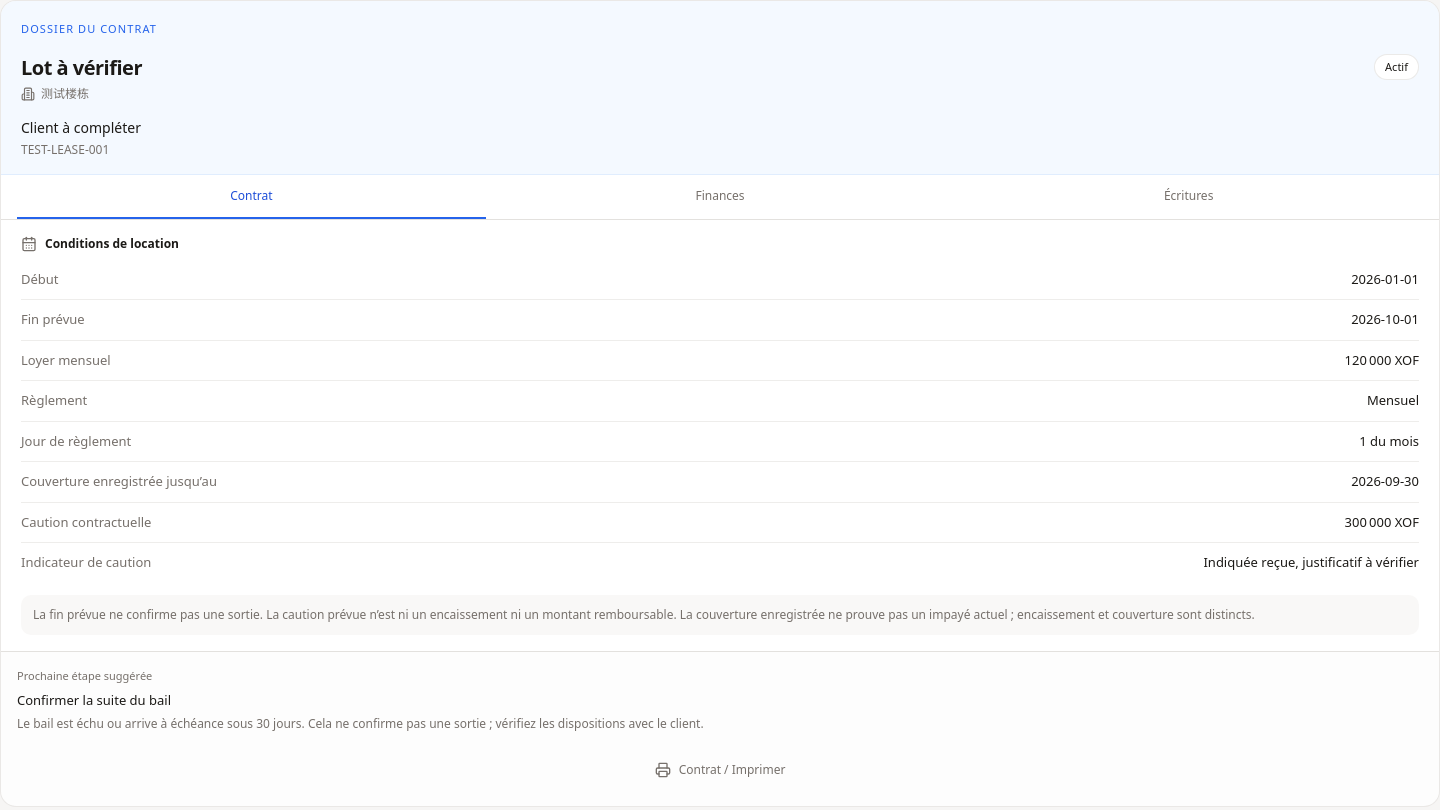
Test: LeaseWorkbenchInspector single contract dossier › localizes the French preview, missing data, and accessible labels
What coordinates should you click on to do the following:
click the tab "Finances"
I would click on:
 (720, 196)
Its box is [486,174,954,218].
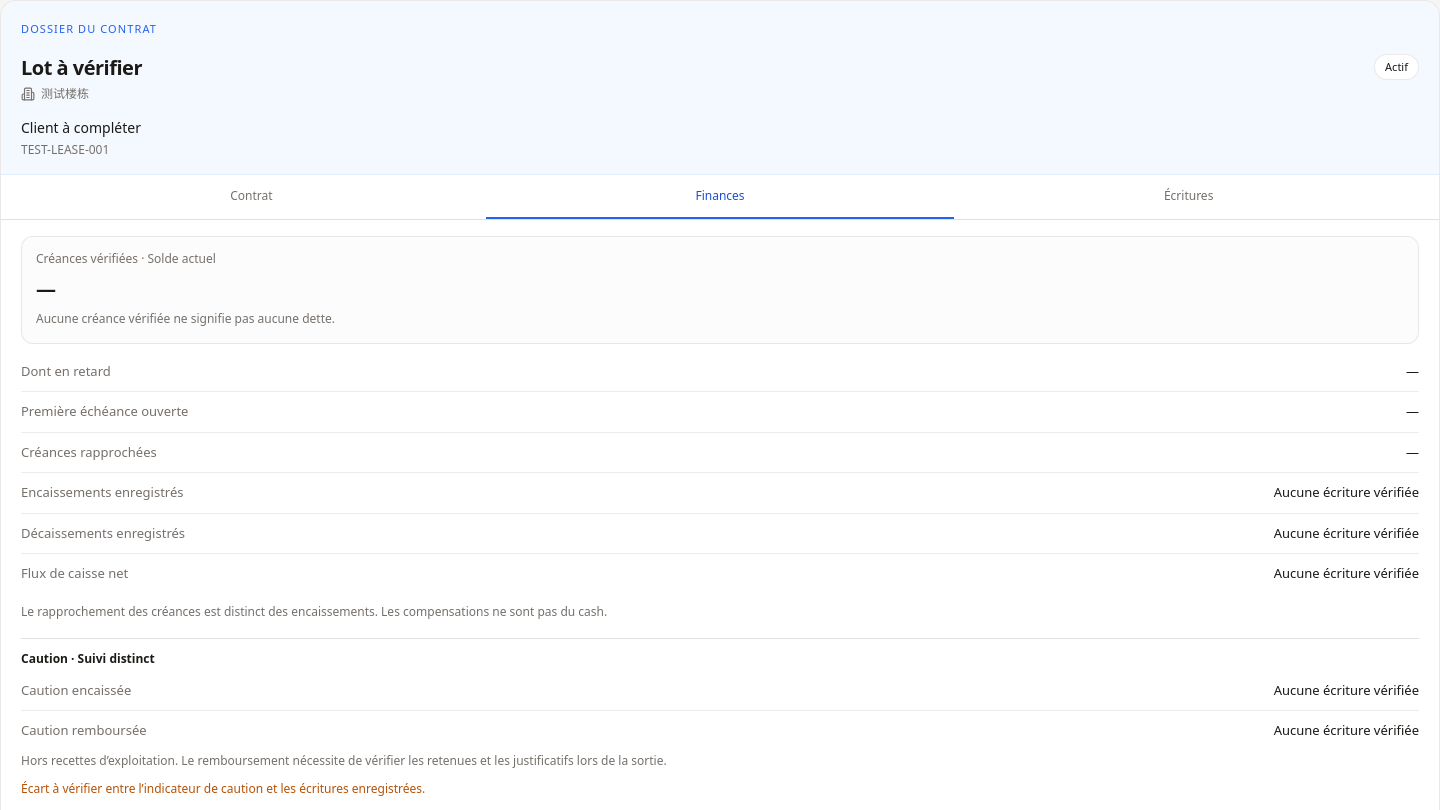
Result: the text "Aucune créance vérifiée" is shown at [36,310,335,326]
Result: the text "0 XOF" is gone
